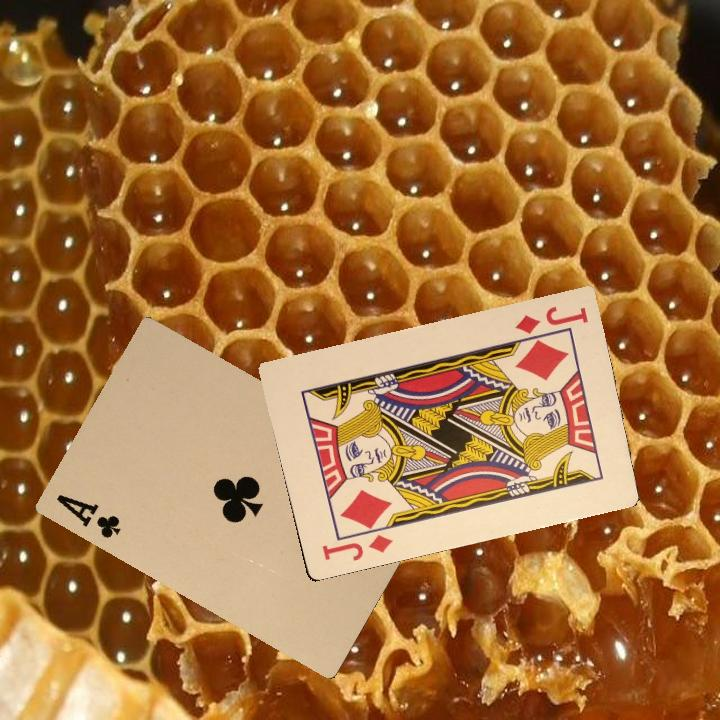Ac: (52, 490, 123, 541)
Jd: (510, 302, 591, 337), (318, 529, 394, 563)
